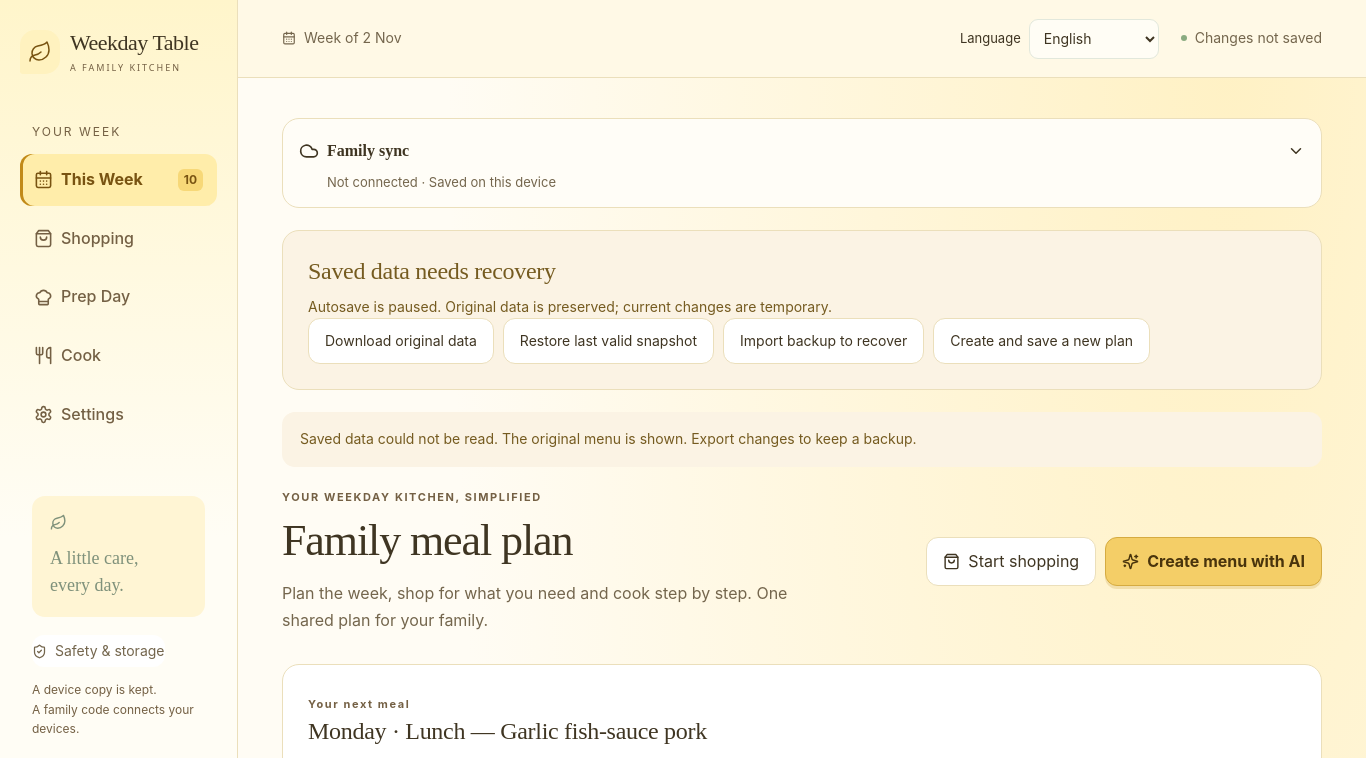
Test case: restores an explicit last valid snapshot and archives the failed original
The width and height of the screenshot is (1366, 758).
expect the navigation bar is shown: met, box [20,154,217,440]
What coordinates should you click on to do the following:
click the button "Restore last valid snapshot"
I would click on:
 (608, 341)
Its box is [503,318,714,364].
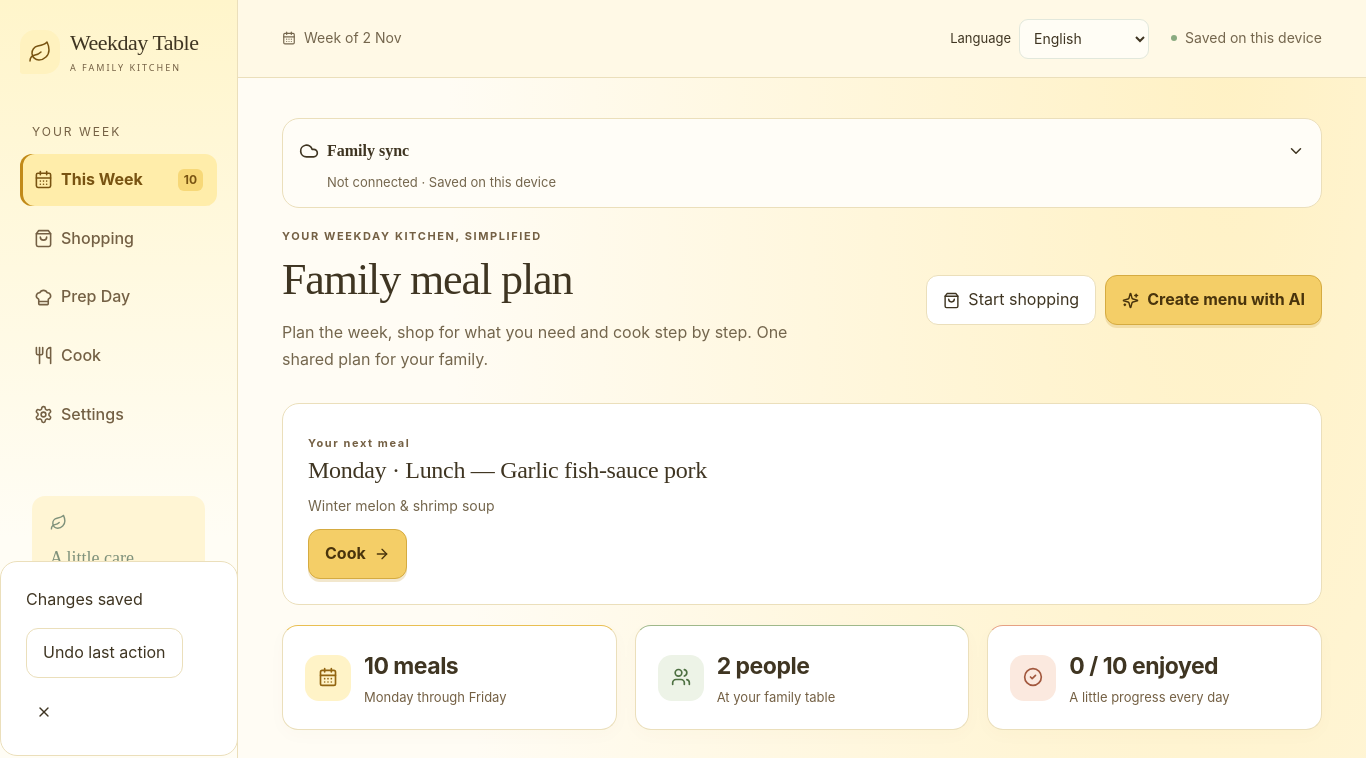
expect the heading "Saved data needs recovery" is gone: met
